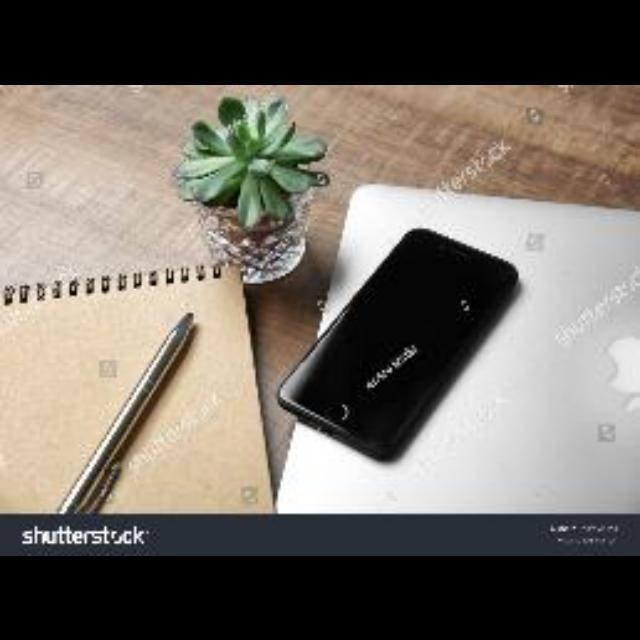phone: (273, 222, 512, 464)
